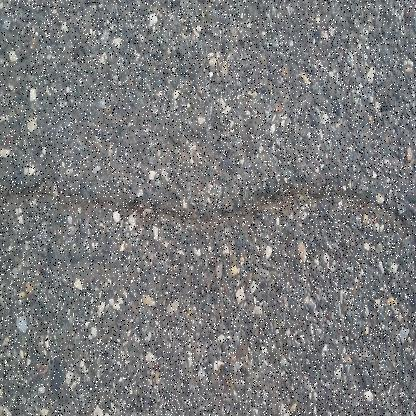Cracks: (0, 163, 415, 244)
